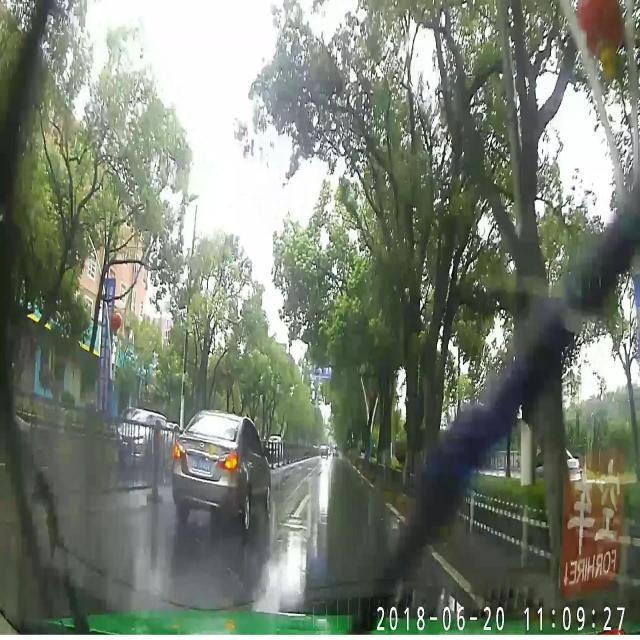car: (170, 409, 268, 531), (119, 412, 168, 472)
